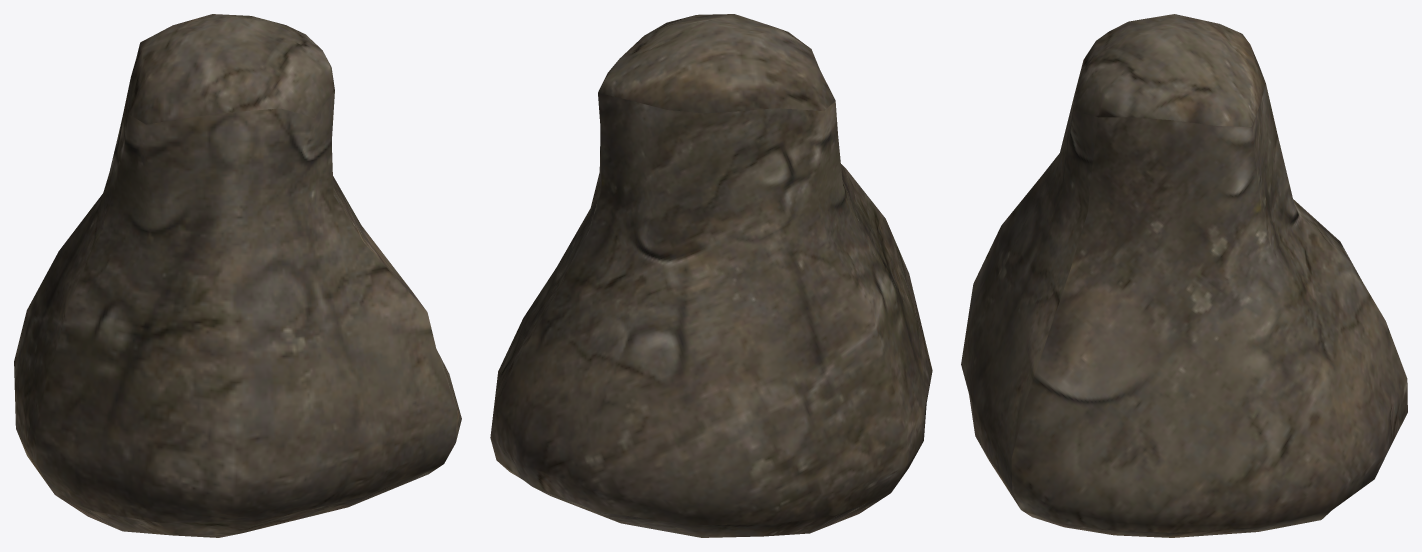
File: stalagmite_collumn_04.dae
3 views of the same model, side by side, from view 1: azimuth 30°, elevation 25°; view 2: azimuth 150°, elevation 25°; view 3: azimuth 270°, elevation 25° (orthographic).
Parts seen in each view (by area): view 1: stalagmite_small_04__2_; view 2: stalagmite_small_04__2_; view 3: stalagmite_small_04__2_.
Part boxes in pixels (<box>): stalagmite_small_04__2_: <box>14,14,461,537</box>; stalagmite_small_04__2_: <box>490,14,932,537</box>; stalagmite_small_04__2_: <box>961,14,1407,537</box>.
Bounding box in the file's own units: 0.6325 × 0.7553 × 0.6464.
